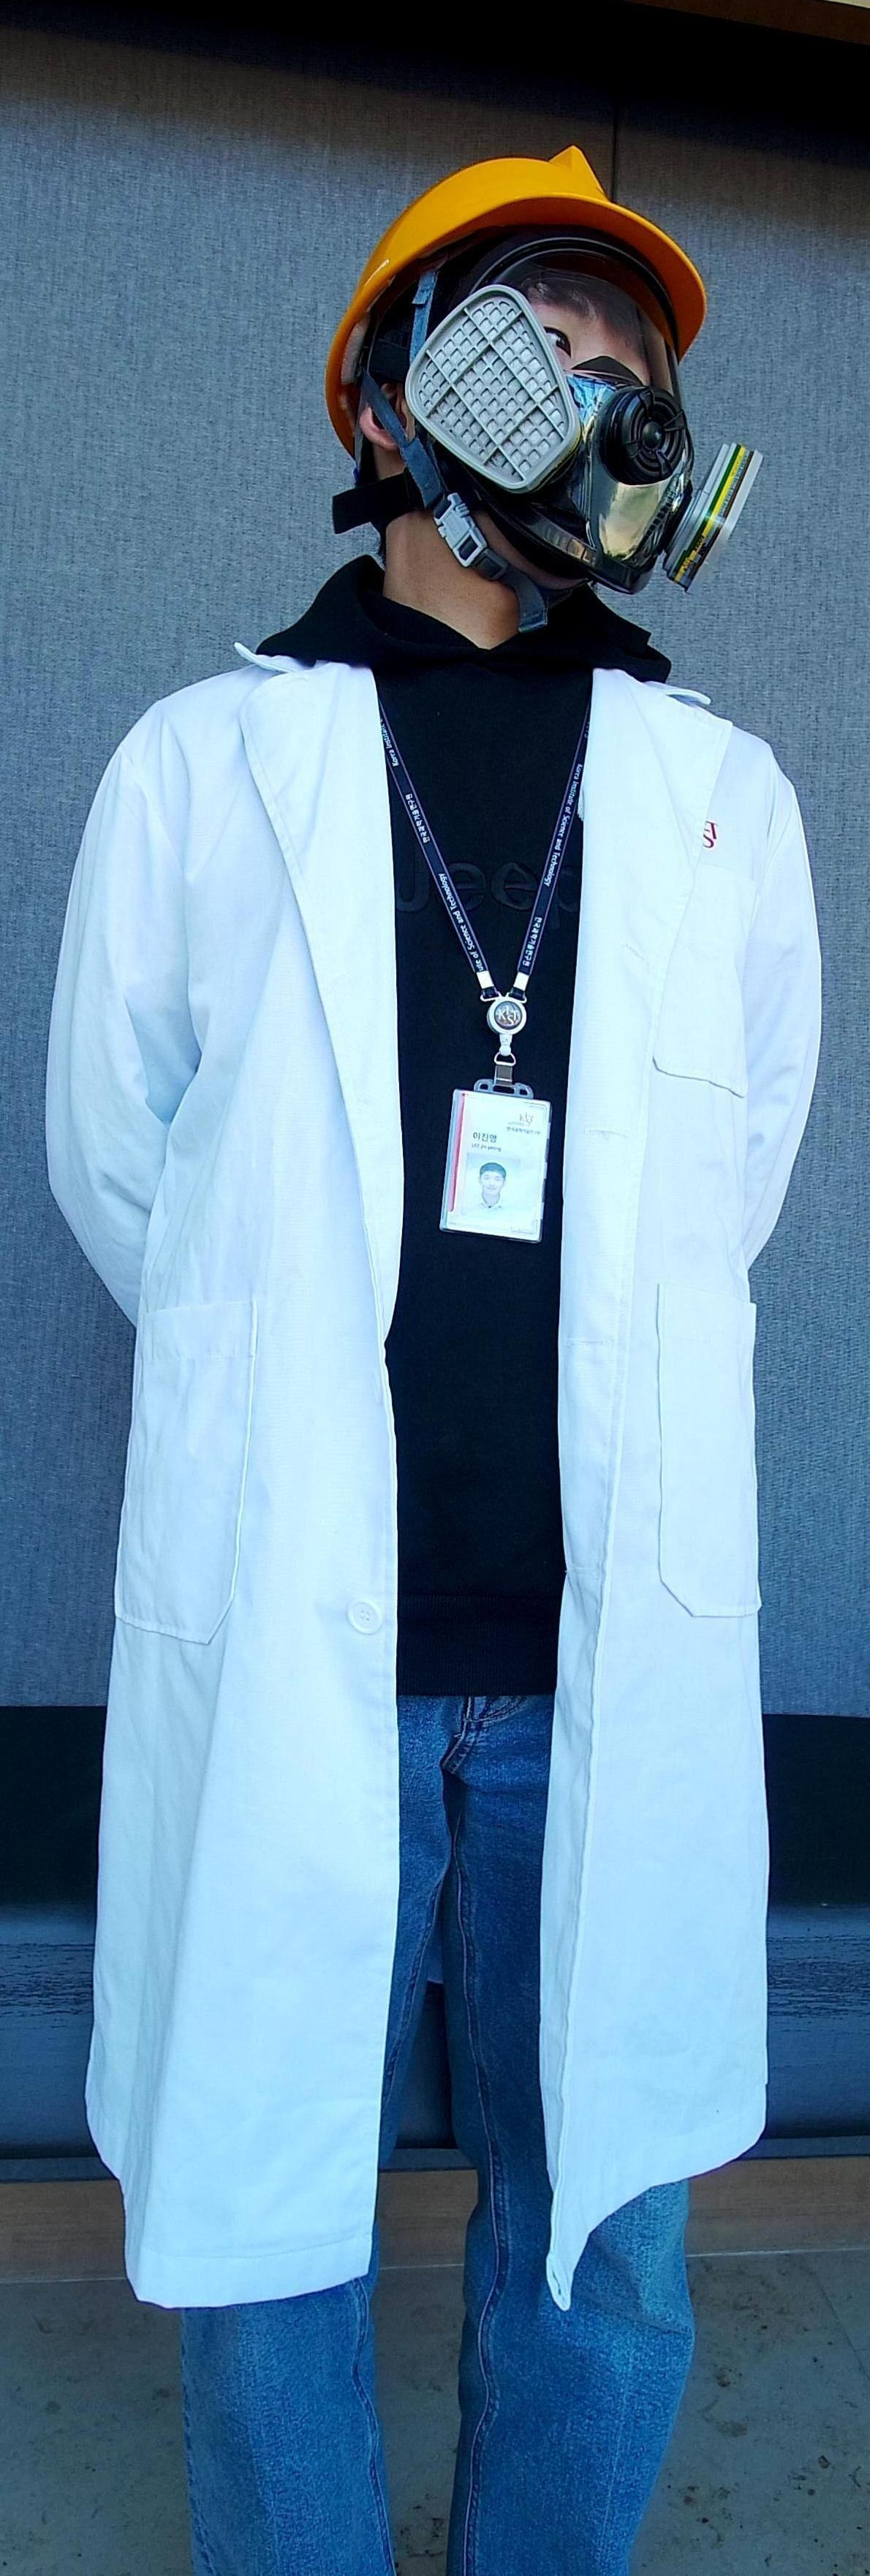lab_coat: (0, 637, 870, 2213)
